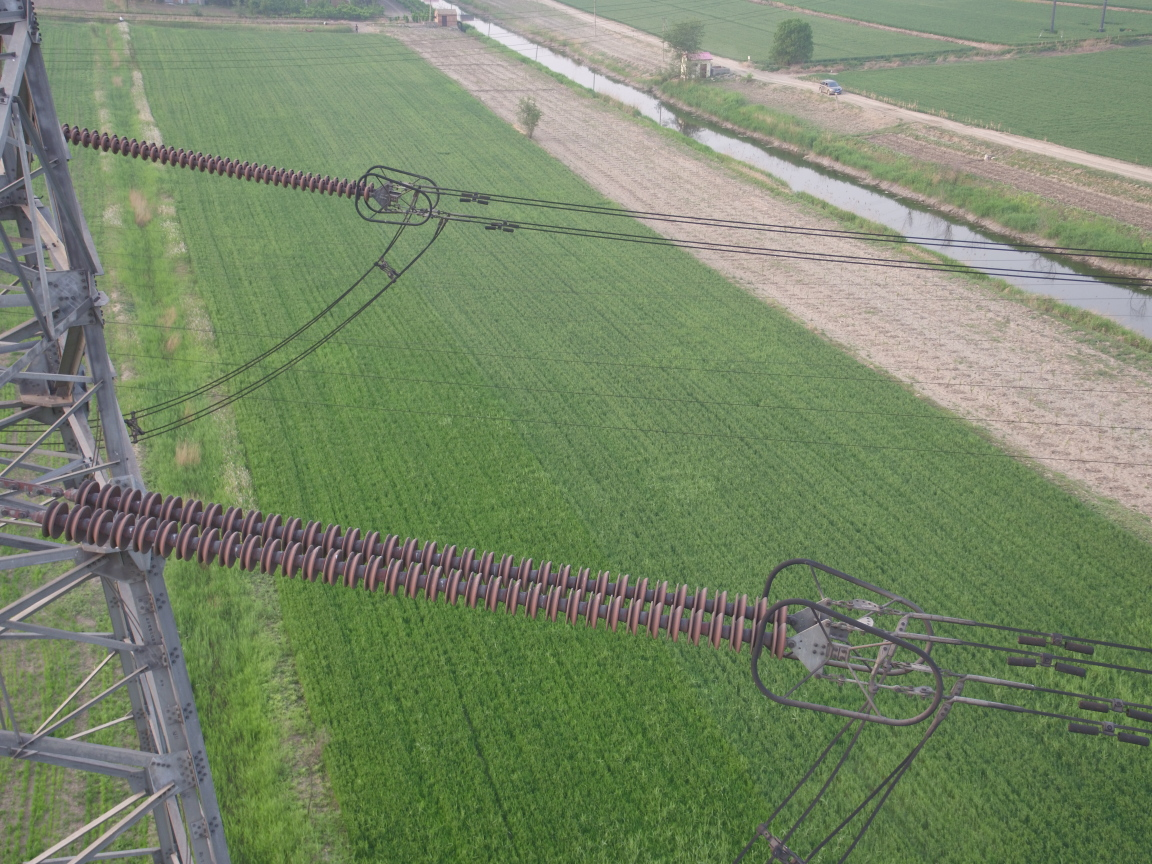insulator: (8, 468, 804, 663), (59, 118, 380, 204)
